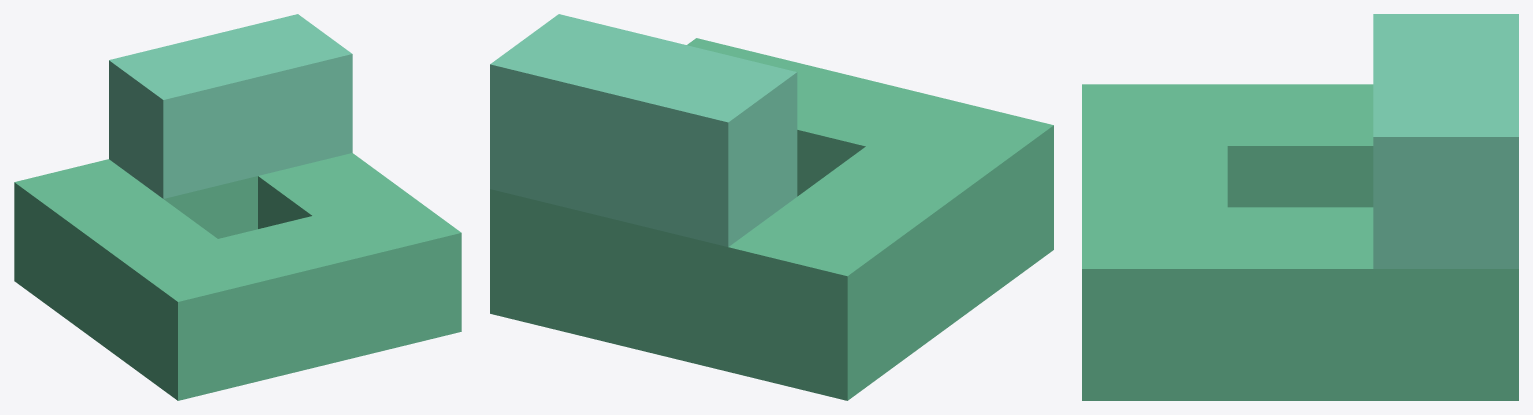
Rendered from anillo_esmeralda_01.glb.
3 views of the same model, side by side, from view 1: azimuth 30°, elevation 25°; view 2: azimuth 150°, elevation 25°; view 3: azimuth 270°, elevation 25° (orthographic). The views are drawn at different scales.
Parts seen in each view (by area): view 1: anillo_esmeralda; view 2: anillo_esmeralda; view 3: anillo_esmeralda.
Part boxes in pixels (x1,y1,x2,y2): anillo_esmeralda: (14,14,461,400); anillo_esmeralda: (490,14,1053,400); anillo_esmeralda: (1082,14,1518,400).
Bounding box in the file's own units: 0.25 × 0.1667 × 0.25.
